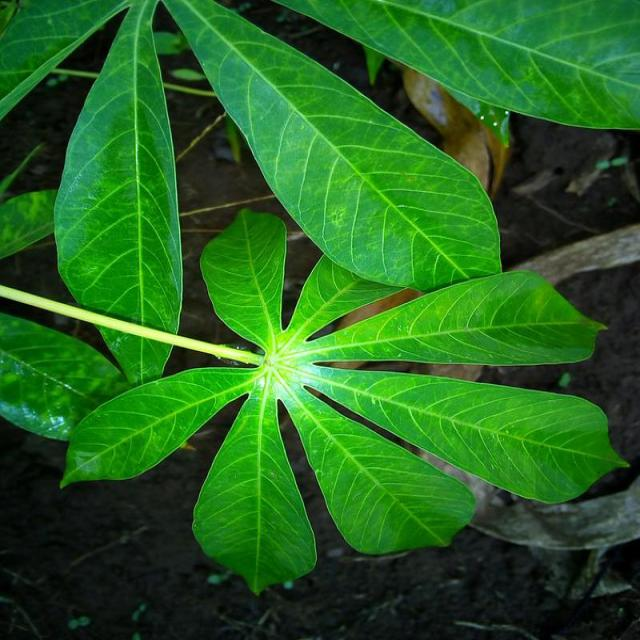cassava leaf: (1, 1, 634, 595), (162, 0, 502, 292), (52, 0, 183, 386), (271, 0, 639, 132), (191, 379, 317, 595)
